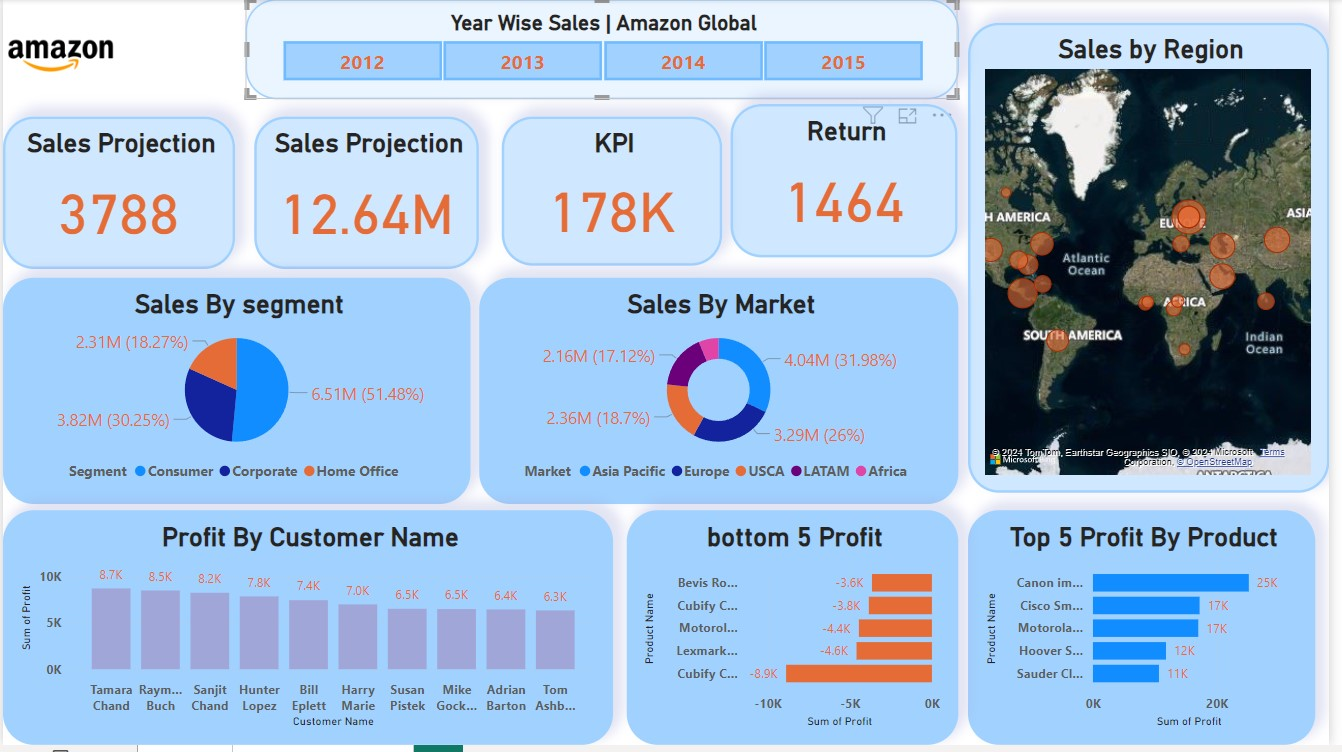

What the dashboard file says about the page in this screenshot:
{"tool":"powerbi","page":{"name":"Page 1","canvas":[1280,720],"ordinal":0},"visuals":[{"type":"slicer","title":"Year Wise Sales | Amazon Global","fields":{"Values":["Orders.Year"]},"box":[233.6,0,688.5,96.6],"z":0},{"type":"card","title":"Sales Projection","fields":{"Values":["Orders.Sales"]},"box":[242.9,113.9,216.8,146.8],"z":1000},{"type":"image","box":[111.3,359.5,92.9,96.6],"z":2000},{"type":"card","title":"Sales Projection","fields":{"Values":["Orders.Product Name"]},"box":[0,113.9,223.7,146.8],"z":3000},{"type":"card","title":"KPI","fields":{"Values":["Orders.Quantity"]},"box":[481.6,113.9,212.7,144.1],"z":4000},{"type":"card","title":"Return","fields":{"Values":["Orders.Ship Date"]},"box":[702.1,101.3,219.6,148.4],"z":5000},{"type":"pieChart","title":"Sales By segment","fields":{"Category":["Orders.Segment"],"Y":["Orders.Sales"]},"box":[0,269,451.5,218.2],"z":6000},{"type":"donutChart","title":"Sales By Market","fields":{"Y":["Orders.Sales"],"Category":["Orders.Market"]},"box":[459.7,269,462.4,218.2],"z":7000},{"type":"columnChart","title":"Profit By Customer Name","fields":{"Category":["Orders.Customer Name"],"Y":["Orders.Profit"]},"box":[0,494,588.7,226.4],"z":8000},{"type":"barChart","title":"Top 5 Profit By Product","fields":{"Category":["Orders.Product Name"],"Y":["Orders.Profit"]},"box":[931.7,494,334.8,226.4],"z":9000},{"type":"barChart","title":"bottom 5 Profit","fields":{"Category":["Orders.Product Name"],"Y":["Orders.Profit"]},"box":[602.4,494,319.7,226.4],"z":10000},{"type":"map","title":"Sales by Region","fields":{"Category":["Orders.Region"],"Size":["Orders.Sales"]},"box":[931.8,23.2,348.5,453.7],"z":10001},{"type":"image","box":[0,0,111.3,110.1],"z":10002}]}

Visuals, with their boxes in screenshot pixels (x1, y1, x2, y2), scaled from the page's 1280x720 canvas onto the 1342x752 screenshot:
"Year Wise Sales | Amazon Global" slicer: 245/0/967/101
"Sales Projection" card: 255/119/482/272
image: 117/375/214/476
"Sales Projection" card: 0/119/235/272
"KPI" card: 505/119/728/269
"Return" card: 736/106/966/261
"Sales By segment" pieChart: 0/281/473/509
"Sales By Market" donutChart: 482/281/967/509
"Profit By Customer Name" columnChart: 0/516/617/751
"Top 5 Profit By Product" barChart: 977/516/1328/751
"bottom 5 Profit" barChart: 632/516/967/751
"Sales by Region" map: 977/24/1341/498
image: 0/0/117/115
